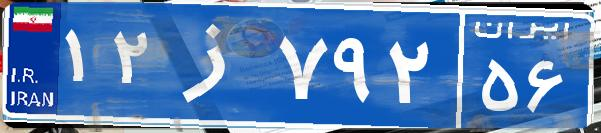1: (57, 26, 110, 107)
2: (385, 28, 445, 110), (110, 28, 158, 105)
5: (475, 38, 525, 113)
6: (525, 38, 570, 115)
7: (273, 28, 330, 110)
9: (330, 28, 385, 110)
ز: (158, 15, 273, 115)
